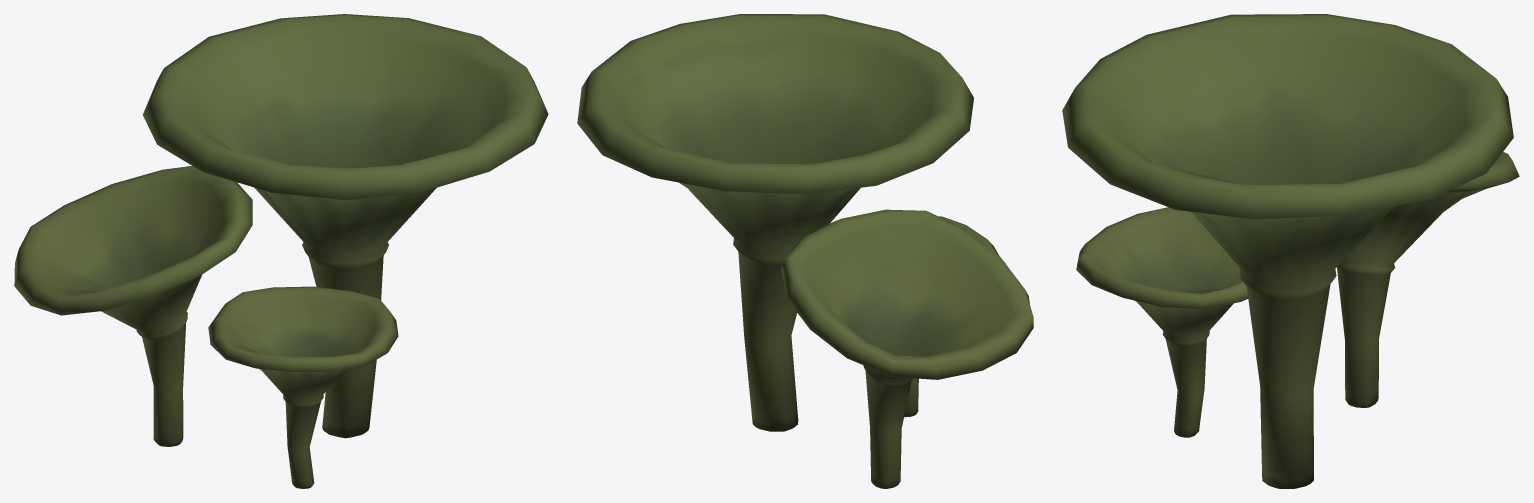
Rendered from Mushroom4.fbx.
The picture shows the model from 3 angles, left to right: view 1: azimuth 30°, elevation 25°; view 2: azimuth 150°, elevation 25°; view 3: azimuth 270°, elevation 25°; orthographic projection. The views are drawn at different scales.
Parts seen in each view (by area): view 1: mushroom.003; view 2: mushroom.003; view 3: mushroom.003.
Boxes of the visible parts, x1,y1,x2,y2 form: mushroom.003: (14, 14, 548, 488); mushroom.003: (577, 14, 1033, 488); mushroom.003: (1062, 14, 1519, 488).
Size of the model in its own units: 9.95 by 7.1 by 7.74.
Materials: 1 (1 with a texture image).
